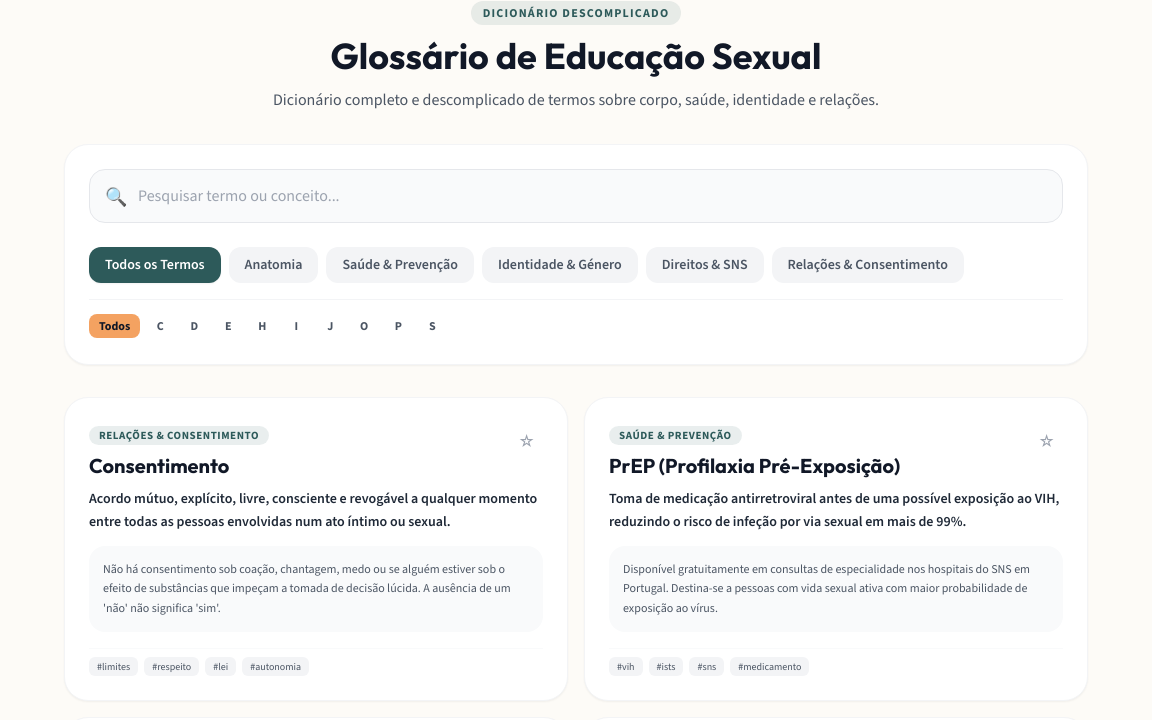
Scenario: GlossaryTab › filters terms by search query
Type "vulva" into the field with placeholder "Pesquisar termo ou conceito...".
click(576, 196); type("vulva")  # box x1=89 y1=169 x2=1063 y2=223
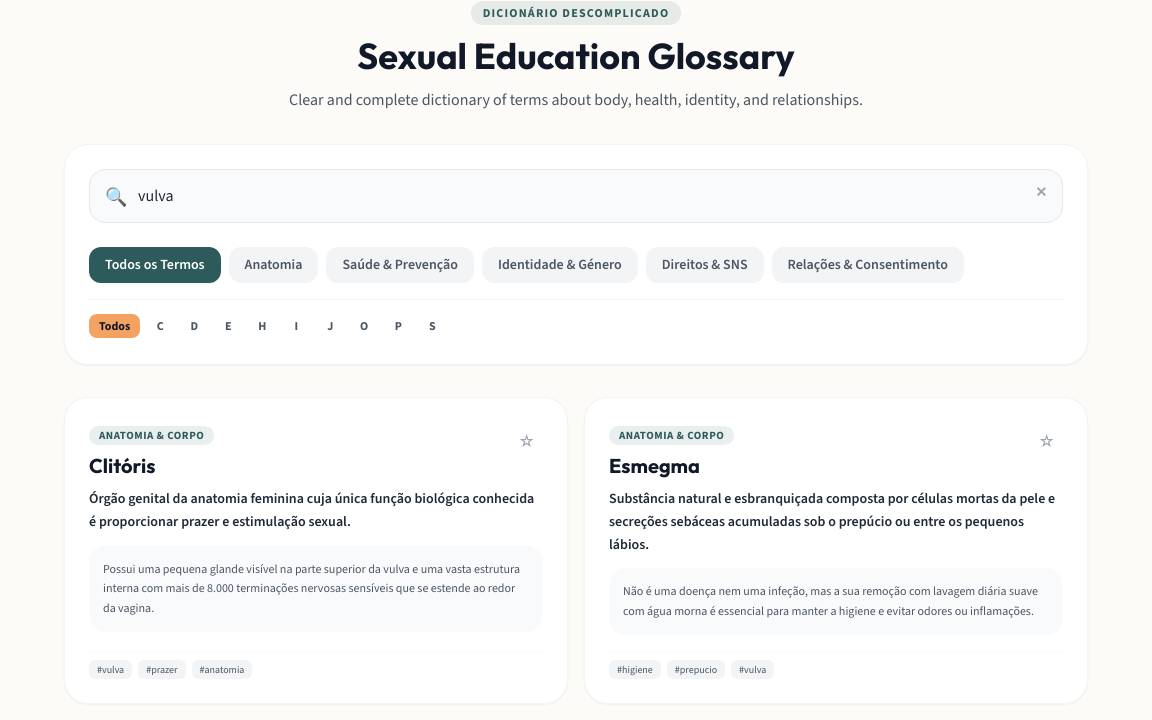
Expected: the text "vulva" is shown 3 times, x1=89 y1=546 x2=543 y2=632; x1=89 y1=660 x2=132 y2=679; x1=731 y1=660 x2=774 y2=679
